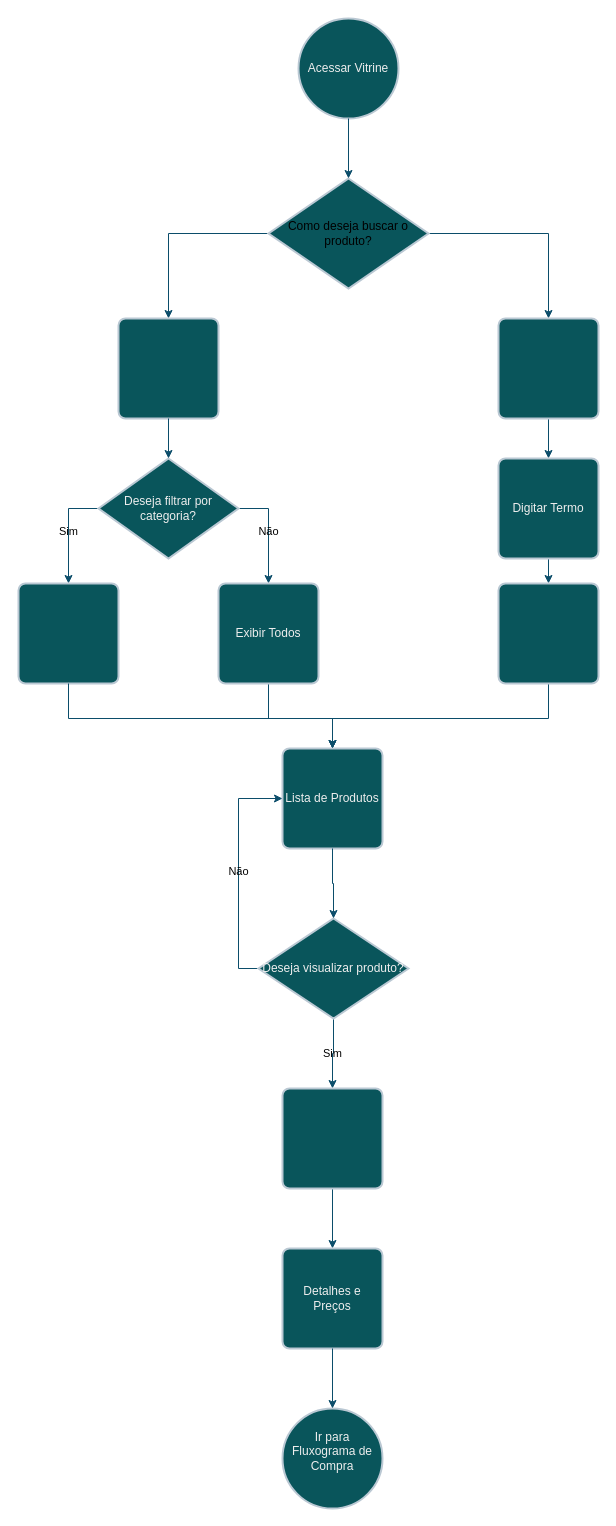
Image size: 616x1526. Some labels were removed from this diagram. The centre of each missing label's shape, as x and y in pixels:
"Acessar o Produto" goes at (332,1138).
"Buscar Produto" goes at (548,633).
"Pesquisa" goes at (548,368).
"Selecionar" goes at (68,633).
"Ver Catálogo" goes at (168,368).
